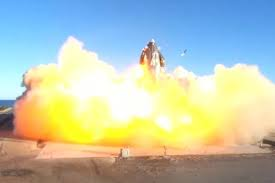ten_lua: (136, 42, 166, 100)
